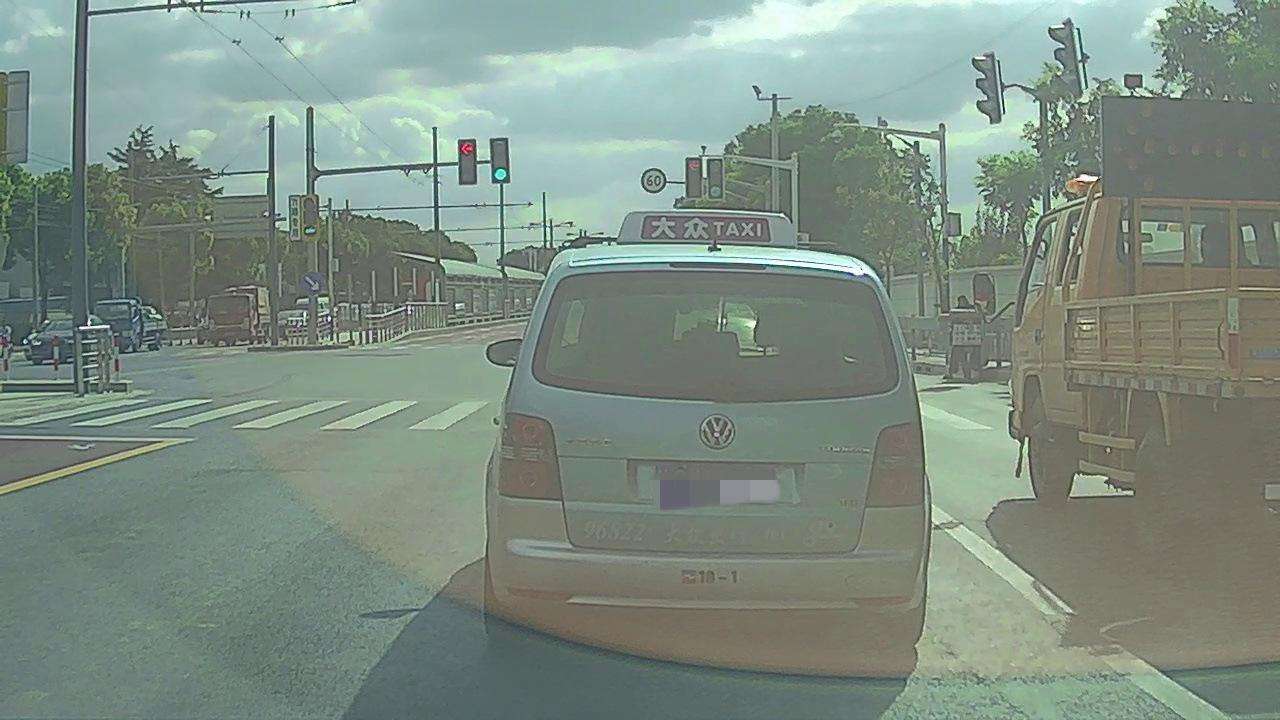traffic_light: (490, 139, 509, 183), (458, 140, 476, 184), (685, 158, 701, 198), (707, 159, 723, 199)
